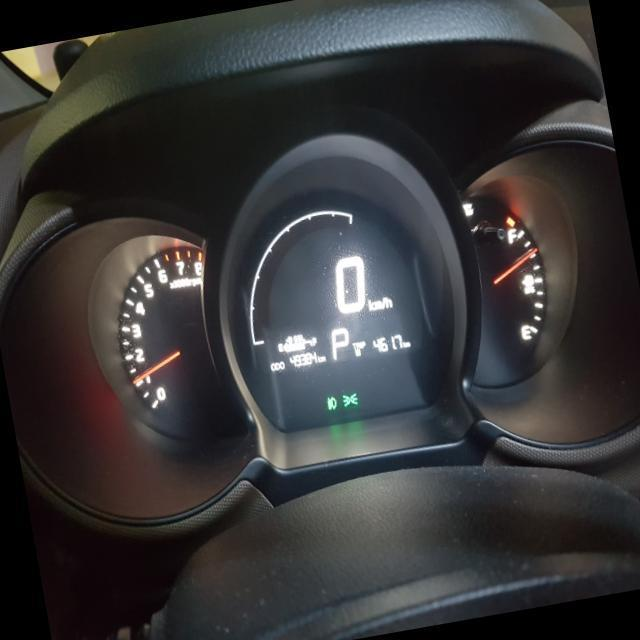FrontFogLight: (324, 394, 337, 411)
SideLamp: (339, 390, 359, 407)
